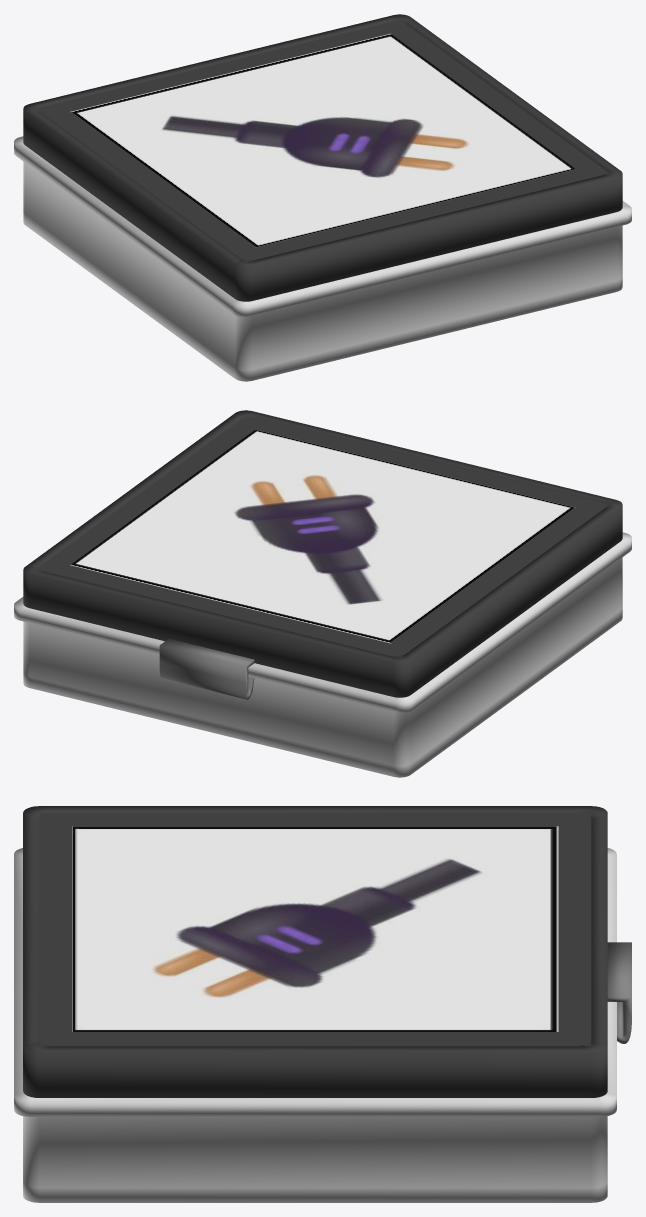
The model's file is plug_container.glb.
3 views of the same model, one above another, from view 1: azimuth 30°, elevation 25°; view 2: azimuth 150°, elevation 25°; view 3: azimuth 270°, elevation 25° (orthographic). The views are drawn at different scales.
Parts seen in each view (by area): view 1: bandage - 1, Part 3, Part, Surface-Plane1 - Part; view 2: bandage - 1, Part 3, Part, Surface-Plane1 - Part, Part 2; view 3: bandage - 1, Part 3, Part, Surface-Plane1 - Part, Part 2.
Boxes of the visible parts, left/top/right/bottom form: bandage - 1: left=70, top=33, right=575, bottom=247; Part 3: left=14, top=136, right=631, bottom=381; Part: left=23, top=14, right=622, bottom=301; Surface-Plane1 - Part: left=36, top=19, right=609, bottom=261; bandage - 1: left=70, top=429, right=575, bottom=643; Part 3: left=14, top=532, right=631, bottom=777; Part: left=23, top=410, right=622, bottom=697; Surface-Plane1 - Part: left=36, top=415, right=609, bottom=657; Part 2: left=159, top=639, right=254, bottom=699; bandage - 1: left=72, top=826, right=558, bottom=1031; Part 3: left=14, top=848, right=616, bottom=1202; Part: left=23, top=806, right=607, bottom=1097; Surface-Plane1 - Part: left=39, top=813, right=591, bottom=1046; Part 2: left=607, top=942, right=631, bottom=1043.
Bounding box in the file's own units: 0.0927 × 0.0255 × 0.095.
5 materials, 1 textured.
